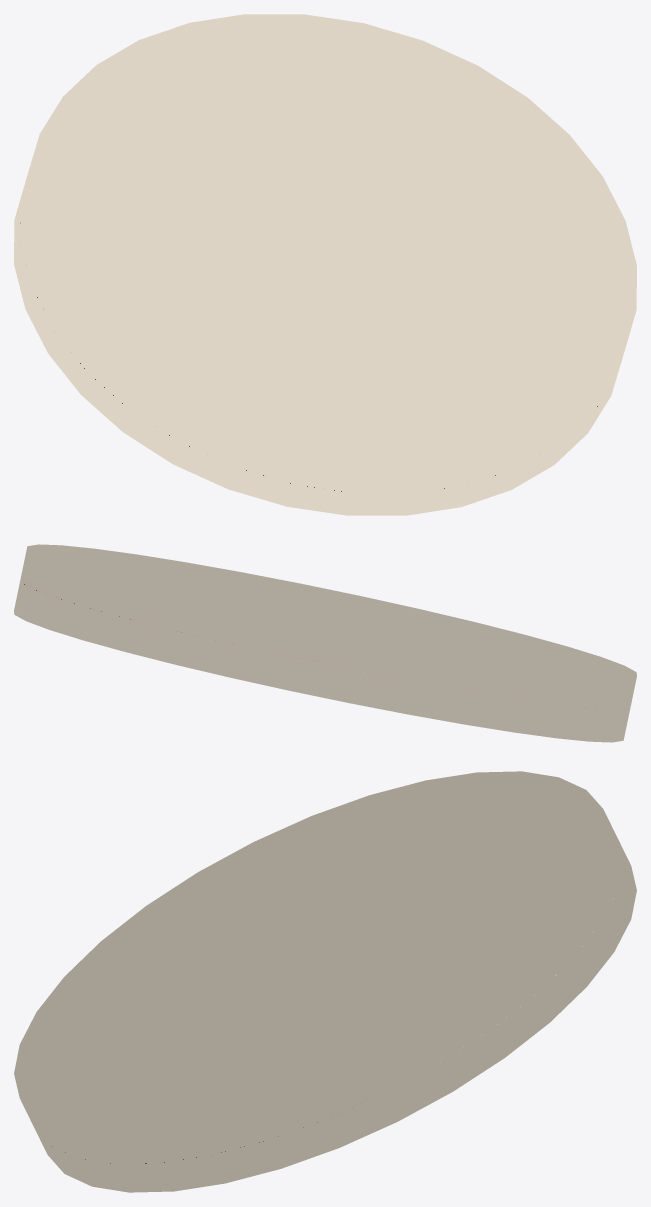
File: SUV_Multifunction_Wood_Steering_123.glb
3 renders of one model, top to bottom at view 1: azimuth 30°, elevation 25°; view 2: azimuth 150°, elevation 25°; view 3: azimuth 270°, elevation 25°, orthographic. The views are drawn at different scales.
Visible parts, largest first — view 1: SUV_Multifunction_Wood_Steering_Wheel; view 2: SUV_Multifunction_Wood_Steering_Wheel; view 3: SUV_Multifunction_Wood_Steering_Wheel.
Part boxes in pixels (x1,y1,x2,y2): SUV_Multifunction_Wood_Steering_Wheel: (14, 14, 636, 515); SUV_Multifunction_Wood_Steering_Wheel: (14, 544, 636, 742); SUV_Multifunction_Wood_Steering_Wheel: (14, 771, 636, 1192).
Size of the model in its own units: 0.38 by 0.1911 by 0.3634.
